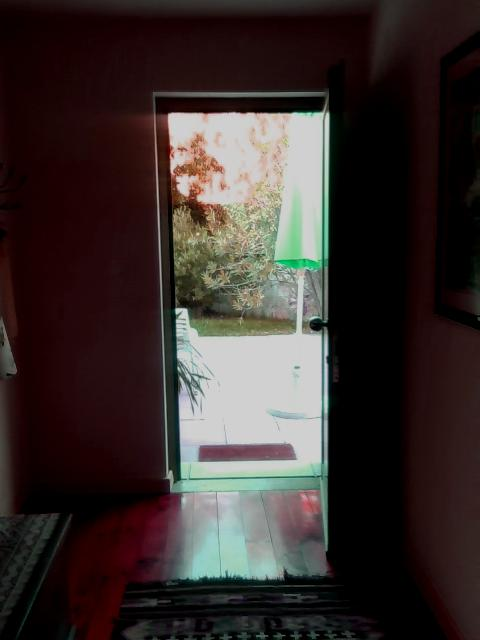open_door: (151, 87, 342, 488)
